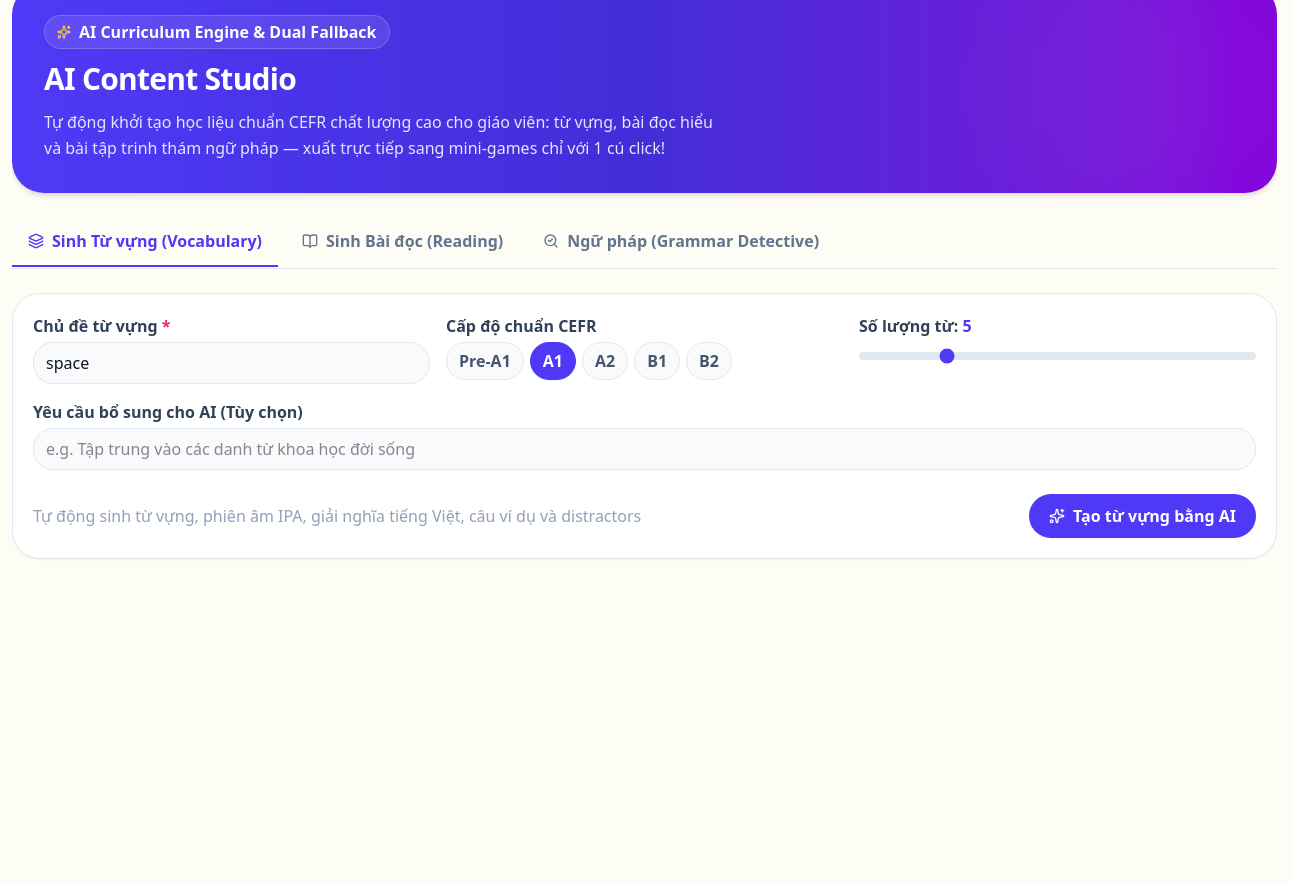
Test case: AiContentStudio Component › switches to grammar tab and generates detective questions
The width and height of the screenshot is (1292, 883).
Click the button "Ngữ pháp (Grammar Detective)" at (681, 242), box [527,217,835,267]
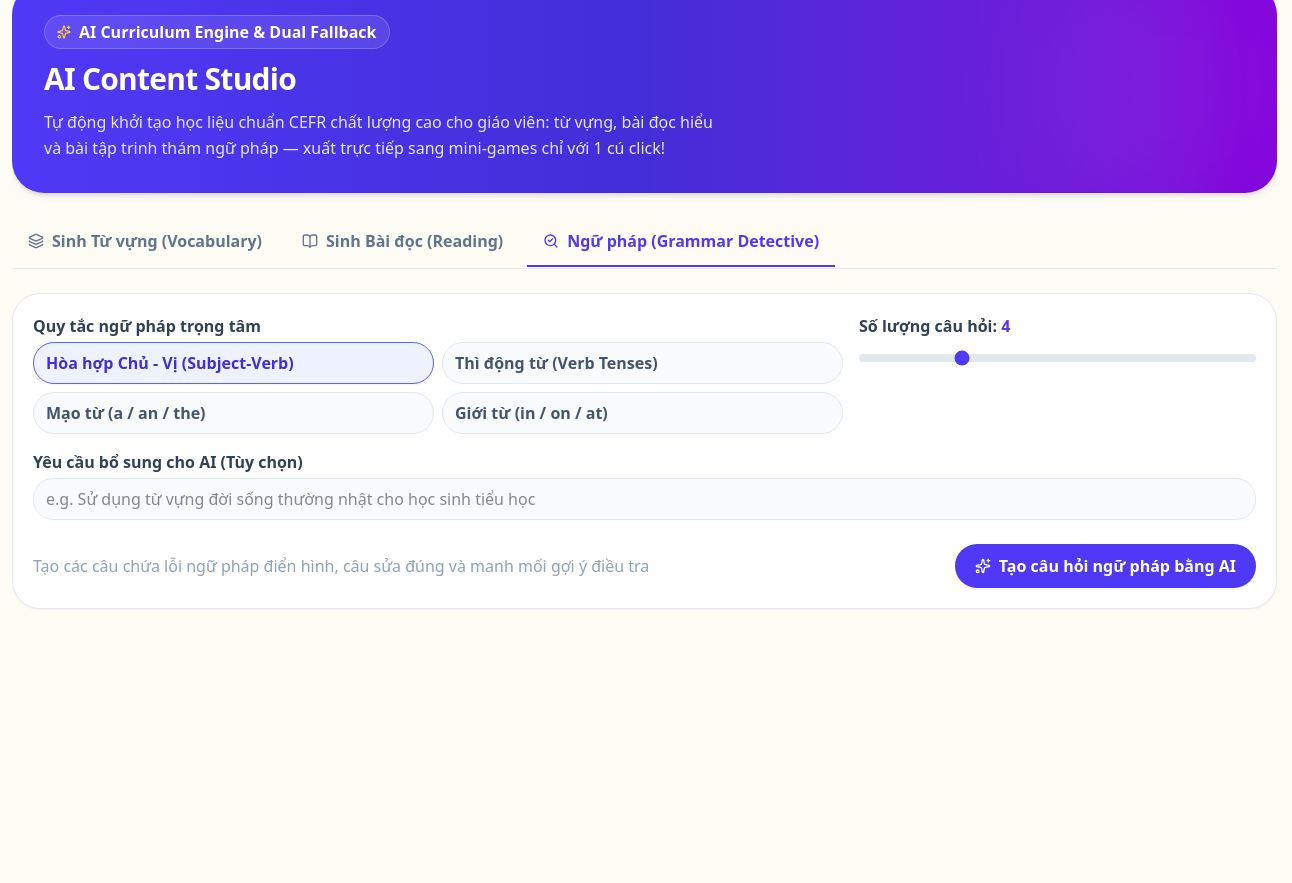
Click the button "Tạo câu hỏi ngữ pháp bằng AI" at (1105, 566), box [955,544,1256,588]
(page scrolled)
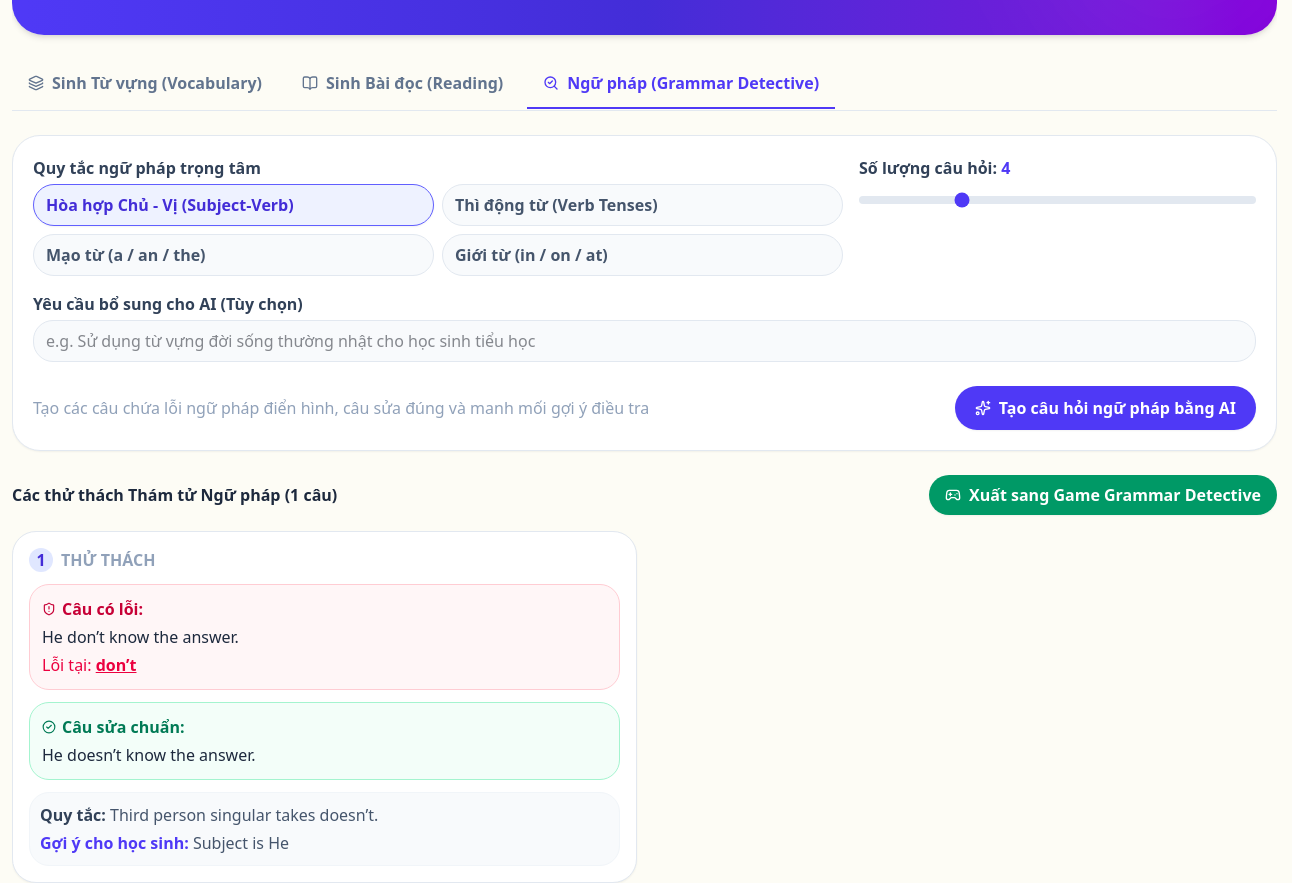
expect the text "He don’t know the answer." is shown: met, box [42,626,239,648]
expect the text "He doesn’t know the answer." is shown: met, box [42,744,256,766]
